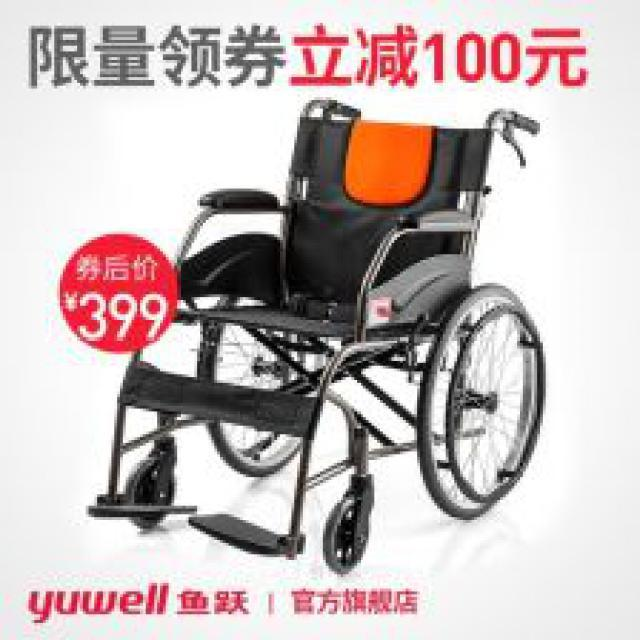wheelchairs: (87, 102, 545, 571)
